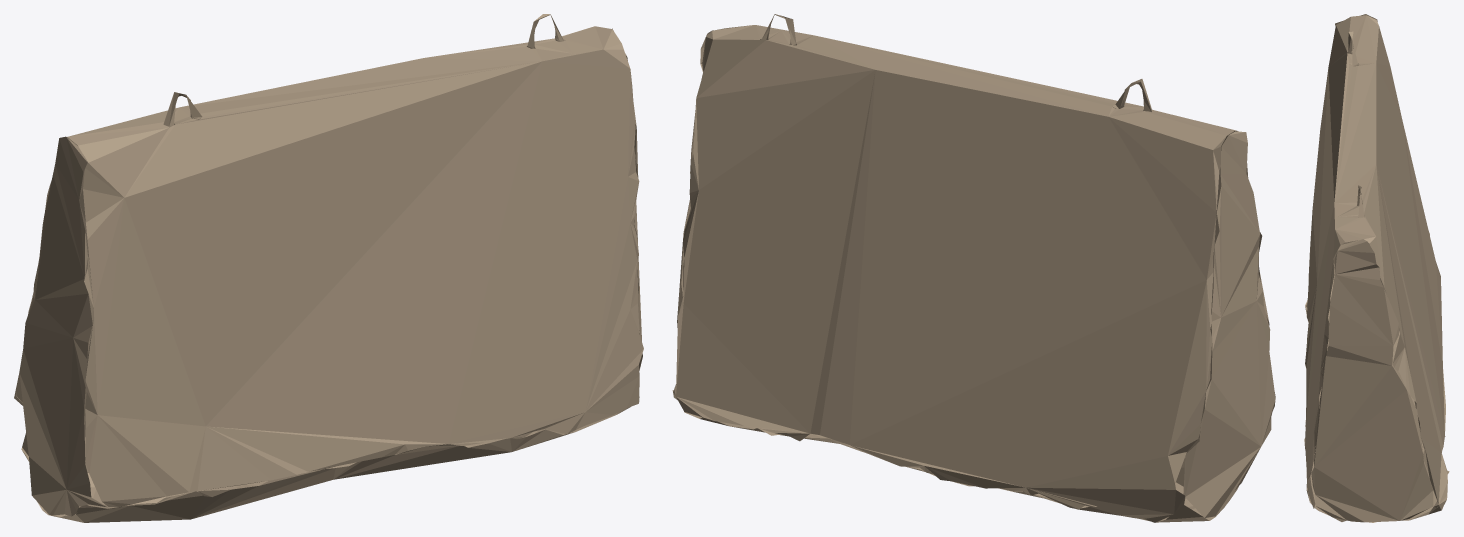
Rendered from road-barrier-tall-lod1.glb.
3 views of the same model, side by side, from view 1: azimuth 30°, elevation 25°; view 2: azimuth 150°, elevation 25°; view 3: azimuth 270°, elevation 25° (orthographic). The views are drawn at different scales.
Size of the model in its own units: 1.56 by 1.1 by 0.4461.
